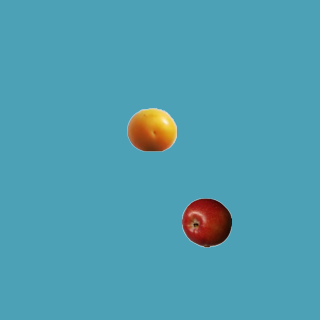Apple Braeburn: (181, 197, 231, 247)
Cherry Wax Yellow: (126, 104, 176, 154)
